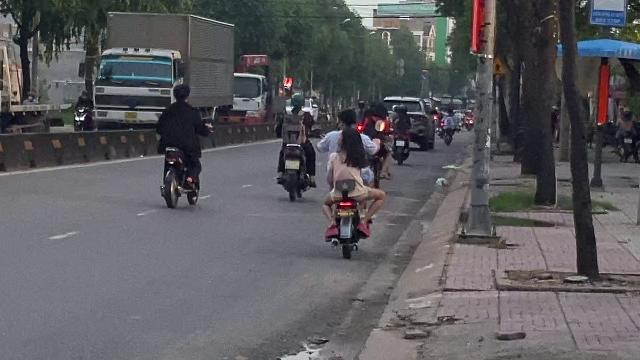motorcyclist: (318, 100, 388, 258), (155, 82, 207, 210)
nohelmet: (336, 127, 366, 156), (333, 108, 357, 130), (171, 82, 191, 102)
